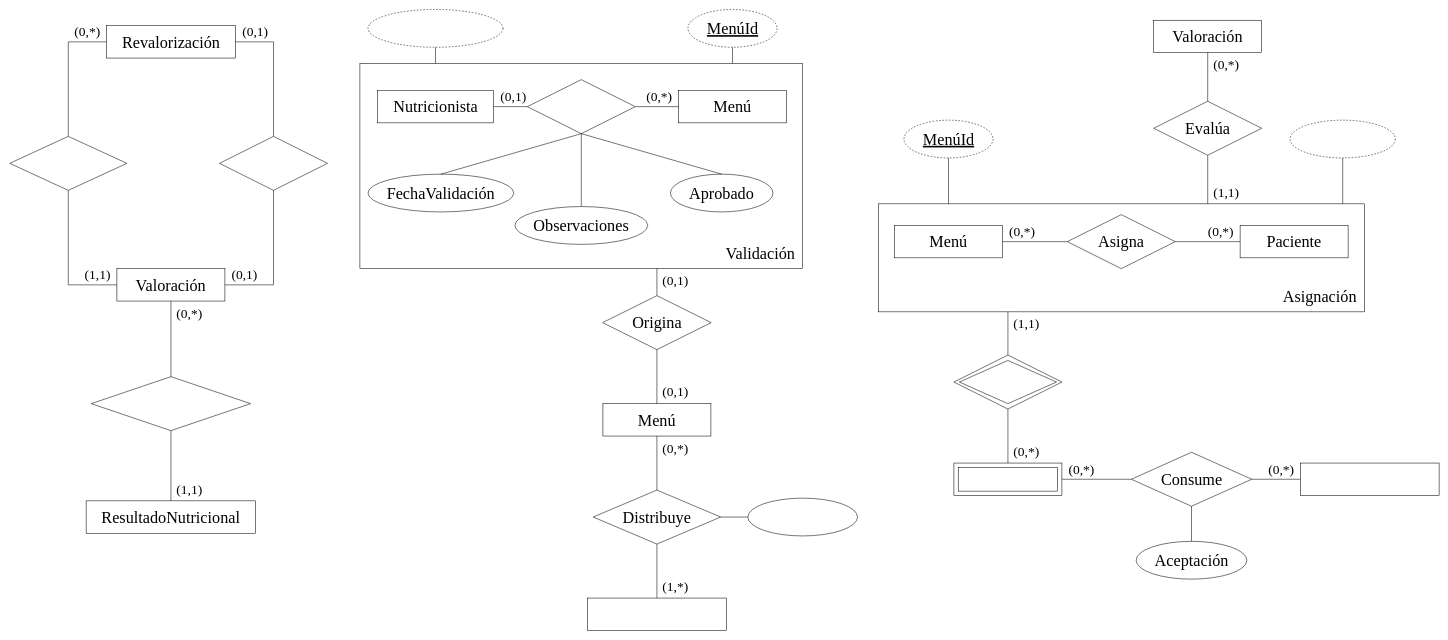
This 1448x640 diagram has some shape labels left out. The box of each missing label's shape, as (x1, y1, x2, y2) in pixels:
Genera: (219, 136, 328, 190)
ItemAlimentario: (1300, 463, 1439, 495)
NutricionistaId: (367, 9, 503, 47)
PacienteId: (1290, 120, 1395, 158)
Proporción: (747, 498, 858, 536)
Revalora: (9, 136, 127, 190)
Servicio: (953, 463, 1062, 495)
Sirve: (953, 355, 1062, 409)
TieneResultado: (91, 376, 251, 431)
TipoPreparación: (587, 598, 726, 630)
Valida: (527, 79, 635, 134)
